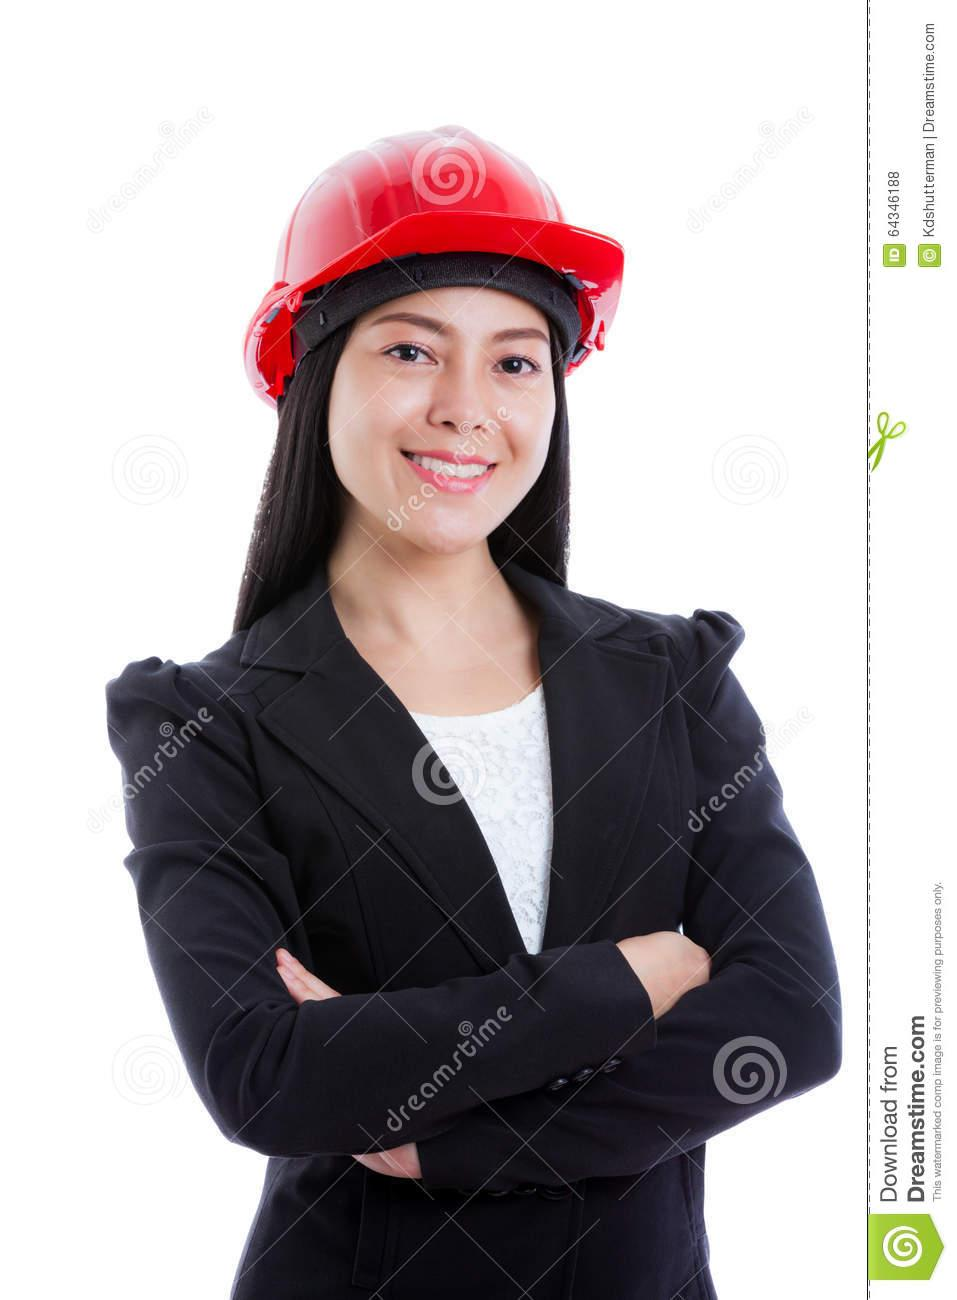helmet: (241, 127, 625, 397)
